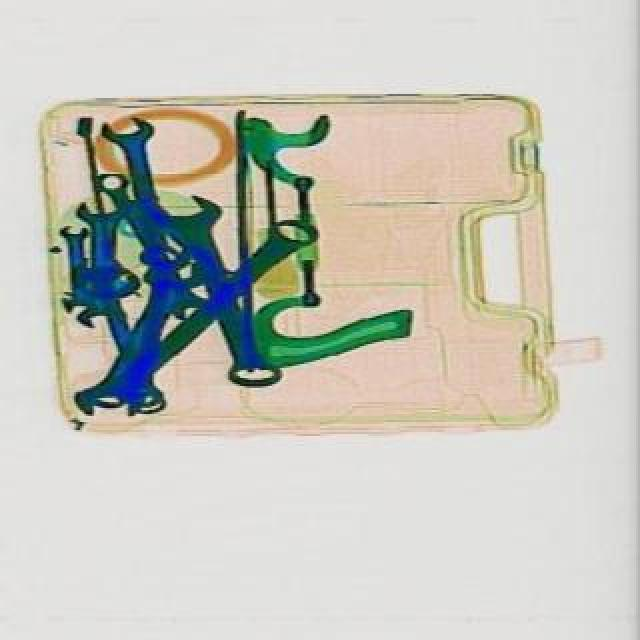scissors: (88, 208, 330, 428), (150, 190, 300, 402), (92, 168, 220, 332), (104, 112, 212, 304), (78, 204, 134, 332), (64, 224, 100, 320)
